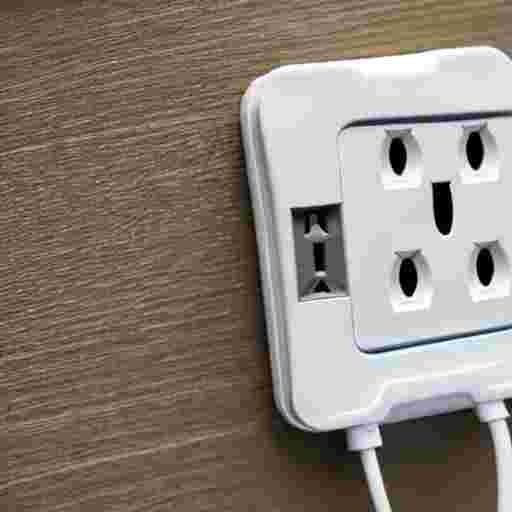power outlet: (241, 48, 511, 449)
